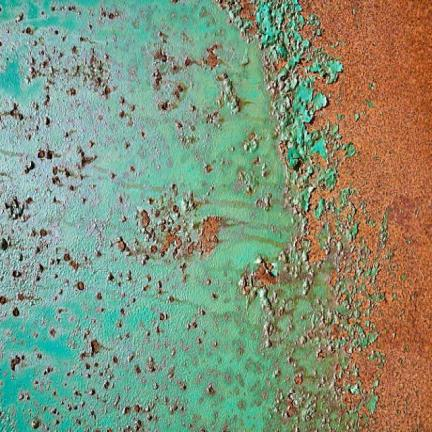karat: (306, 0, 431, 431)
